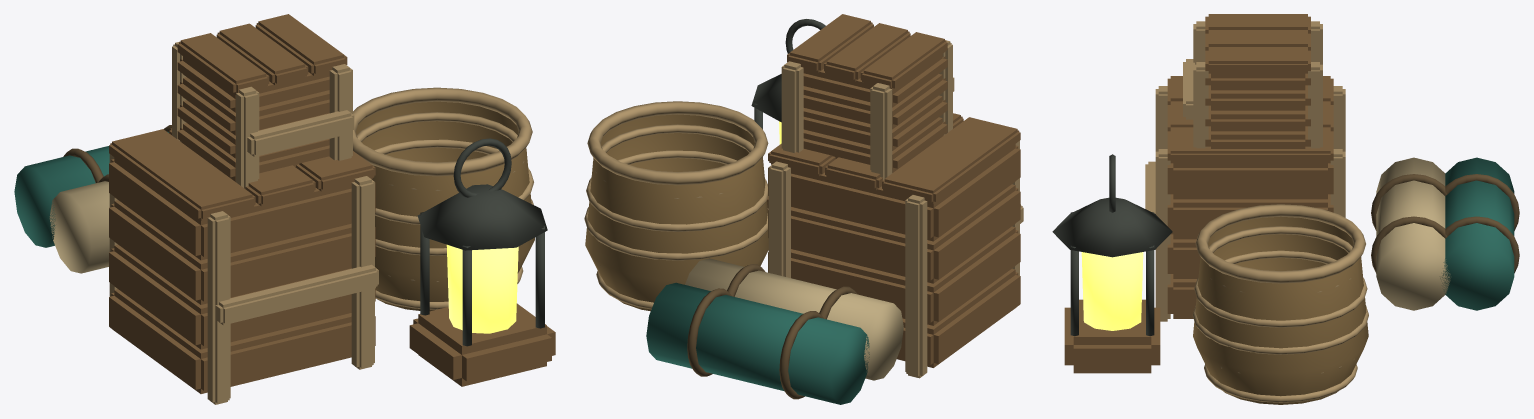
The model's file is SM_DF_SupplyCache_0.fbx.
3 views of the same model, side by side, from view 1: azimuth 30°, elevation 25°; view 2: azimuth 150°, elevation 25°; view 3: azimuth 270°, elevation 25° (orthographic). The views are drawn at different scales.
Visible parts, largest first — view 1: SM_DF_SupplyCache_0; view 2: SM_DF_SupplyCache_0; view 3: SM_DF_SupplyCache_0.
Part boxes in pixels (x1,y1,x2,y2): SM_DF_SupplyCache_0: (14, 14, 555, 404); SM_DF_SupplyCache_0: (584, 14, 1023, 404); SM_DF_SupplyCache_0: (1052, 14, 1519, 404).
Bounding box in the file's own units: 159 × 186 × 115.
